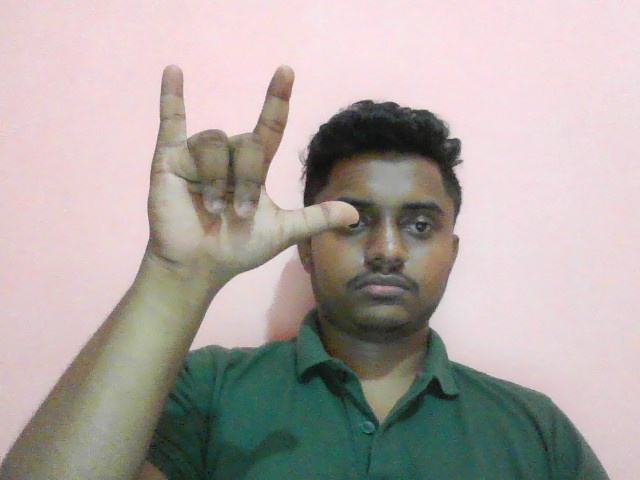I Love You: (137, 56, 363, 294)
